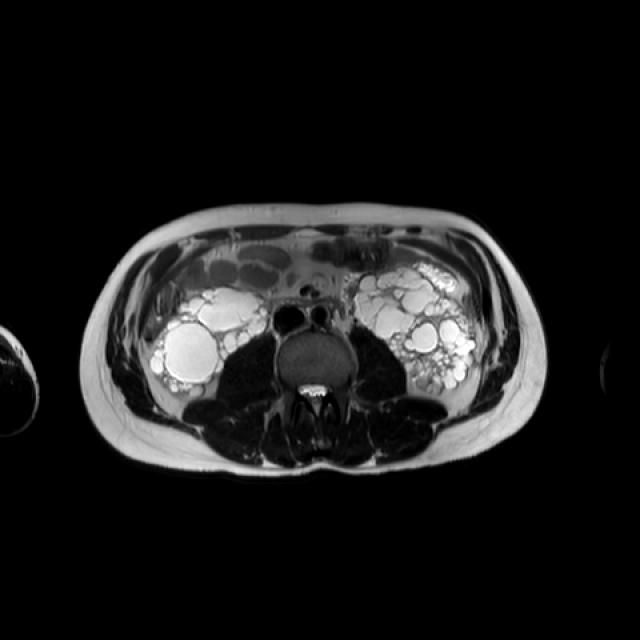sag: (153, 287, 267, 395)
sol: (354, 265, 479, 393)
